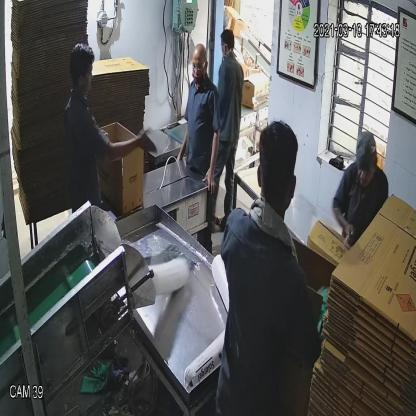no_glove: (99, 124, 160, 171), (203, 118, 224, 197)
